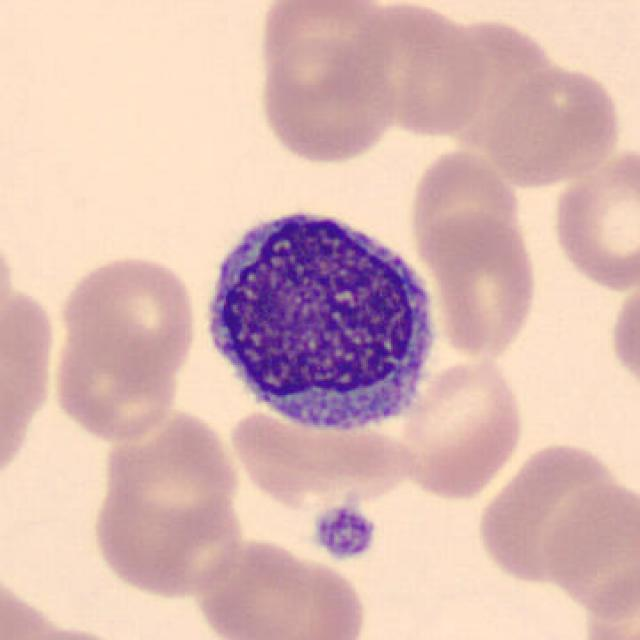Monocyte: (190, 194, 446, 444)
Platelets: (310, 503, 380, 564)
RBC: (85, 402, 247, 601), (473, 437, 633, 589), (223, 392, 422, 512), (339, 0, 489, 141), (389, 354, 528, 502), (186, 534, 372, 640), (55, 250, 201, 384), (416, 206, 540, 363), (254, 34, 400, 165), (484, 62, 626, 188), (48, 321, 183, 446), (540, 474, 640, 628), (403, 143, 522, 271), (252, 0, 398, 104), (548, 141, 638, 294), (0, 271, 60, 488), (572, 564, 640, 640), (608, 273, 640, 400), (7, 620, 147, 640)
